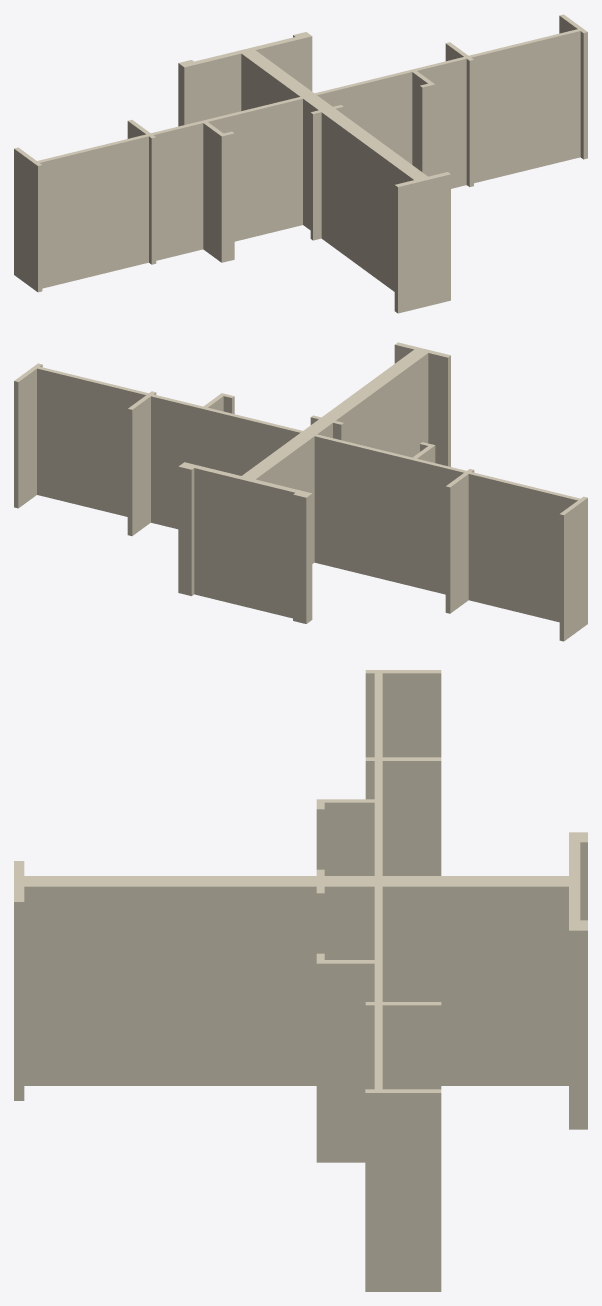
3 renders of one model, top to bottom at view 1: azimuth 30°, elevation 25°; view 2: azimuth 150°, elevation 25°; view 3: azimuth 270°, elevation 25°, orthographic. The views are drawn at different scales.
Parts seen in each view (by area): view 1: A-FF-WALL-007; view 2: A-FF-WALL-007; view 3: A-FF-WALL-007.
Part boxes in pixels (x1=…): A-FF-WALL-007: x1=14, y1=14, x2=587, y2=313; A-FF-WALL-007: x1=14, y1=342, x2=587, y2=641; A-FF-WALL-007: x1=14, y1=670, x2=587, y2=1291.
Bounding box in the file's own units: 11.02 × 2.42 × 6.32.
